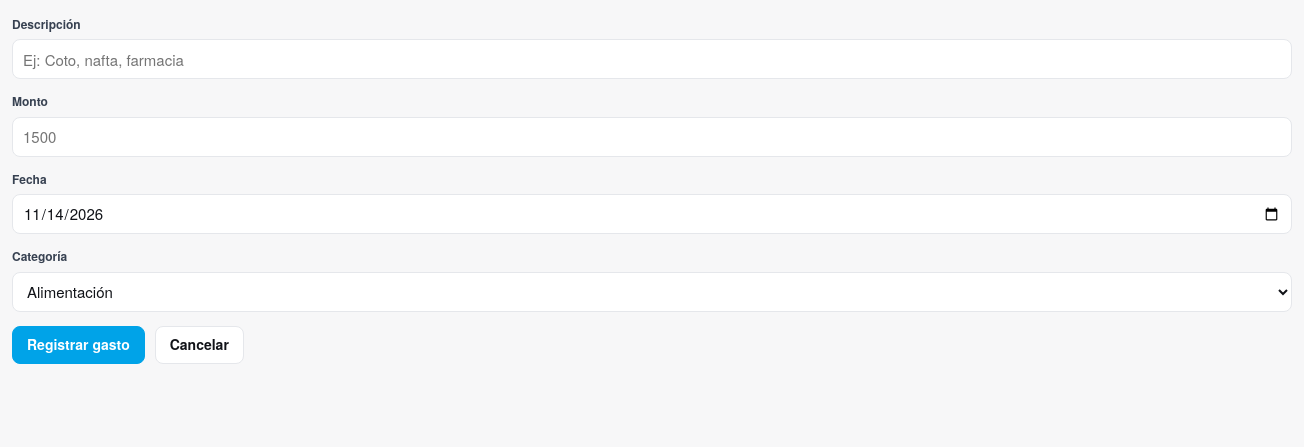
Test case: ExpenseForm › valida monto y descripción
This screenshot has width=1304, height=447.
Type "Coto" into the field labelled "Descripción" at (652,59), box [12,39,1292,79]
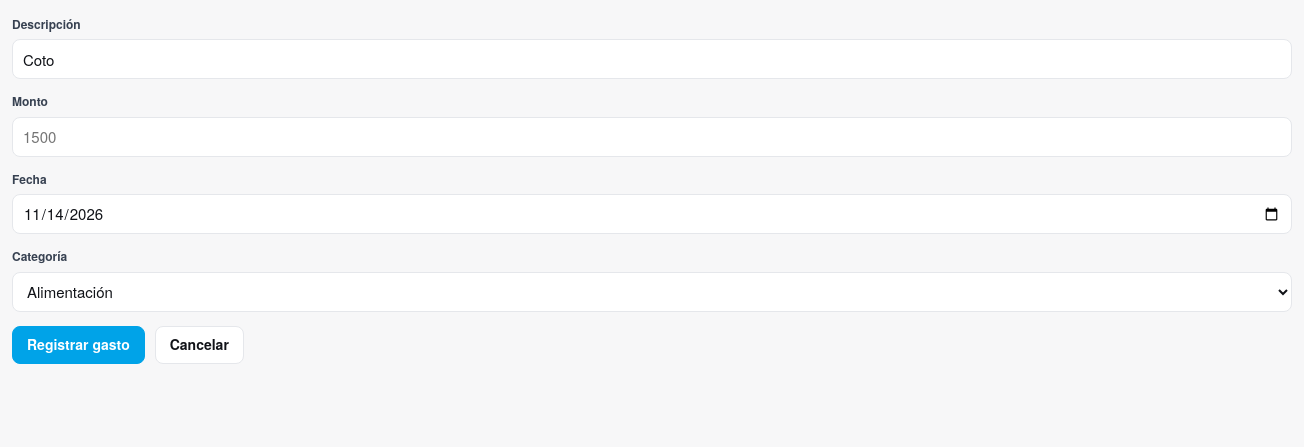
Type "0" into the number field labelled "Monto" at (652,137), box [12,117,1292,157]
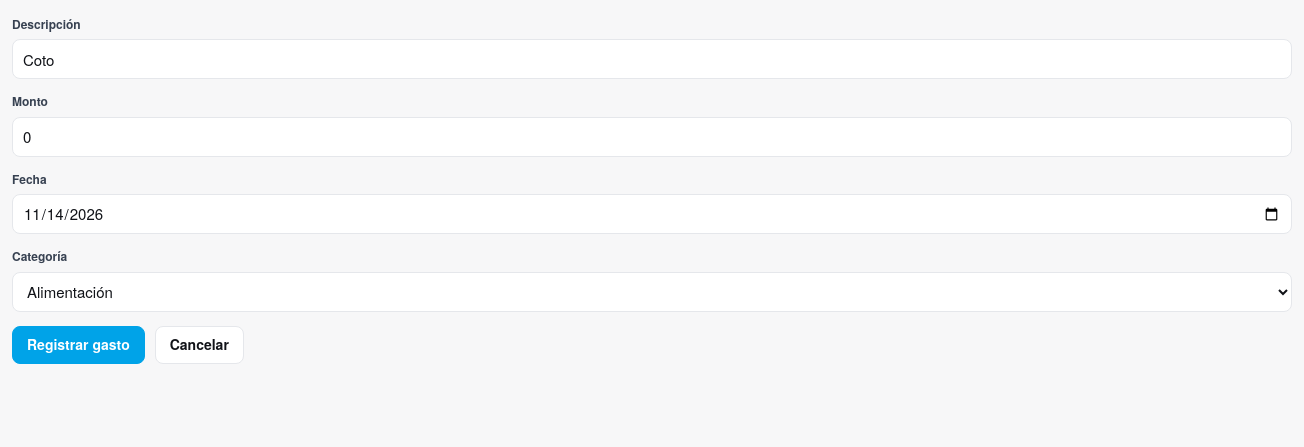
Click the button "Registrar gasto" at (78,345), box [12,326,145,364]
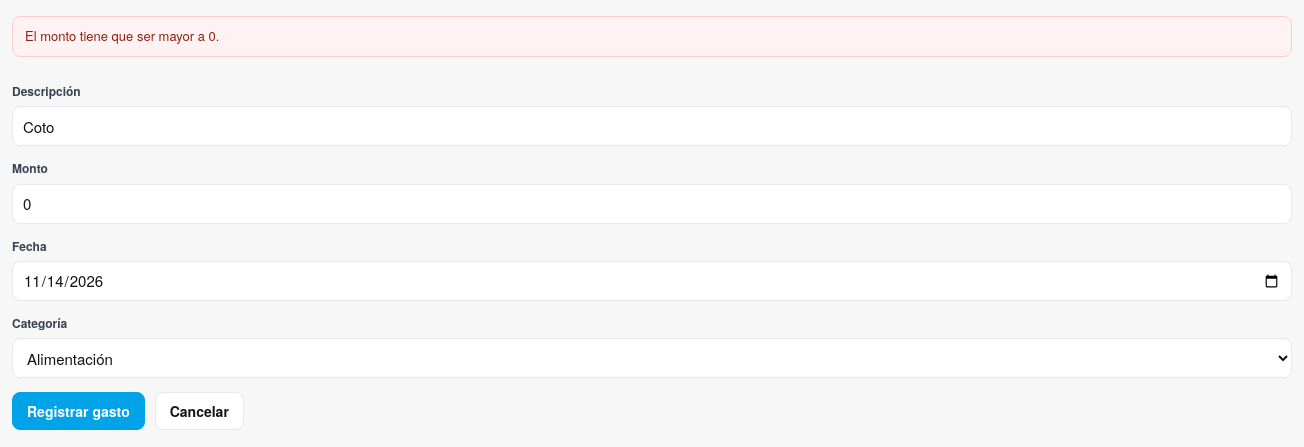
Now the message shows "monto", box [25,26,220,45]
